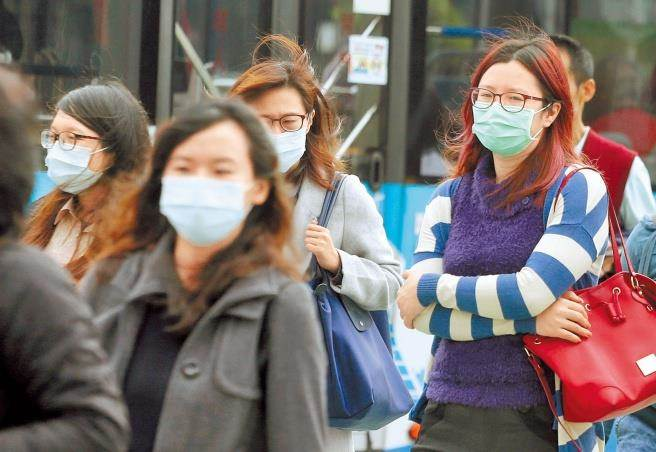mask: (473, 104, 536, 153), (45, 146, 103, 190)
